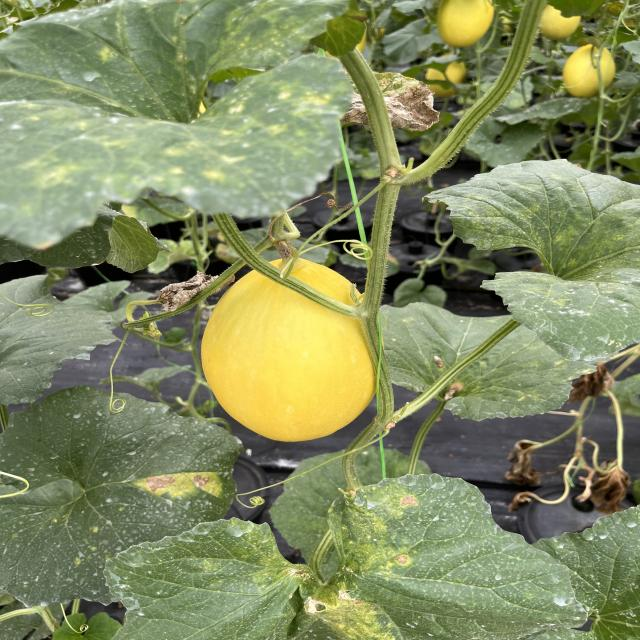alternaria leaf blight: (0, 390, 216, 618), (436, 157, 640, 356), (332, 476, 576, 640), (379, 73, 433, 131)
downy mildew: (0, 0, 355, 230), (382, 304, 591, 428), (106, 537, 296, 640)
